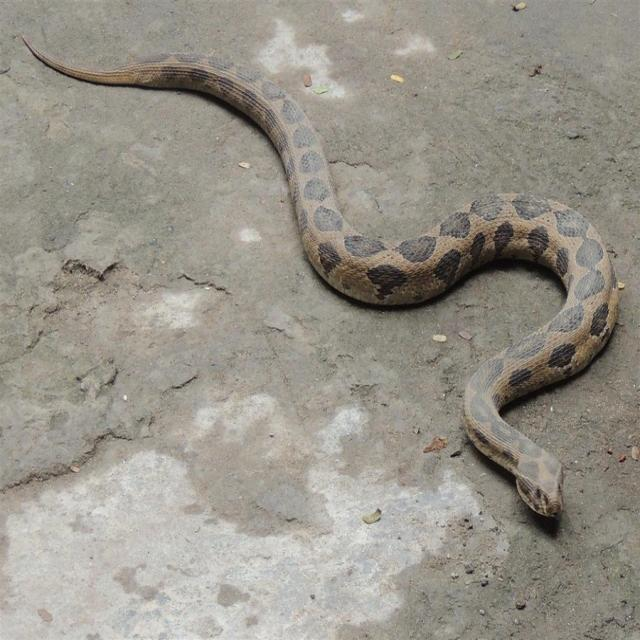Snake: (20, 32, 620, 520)
